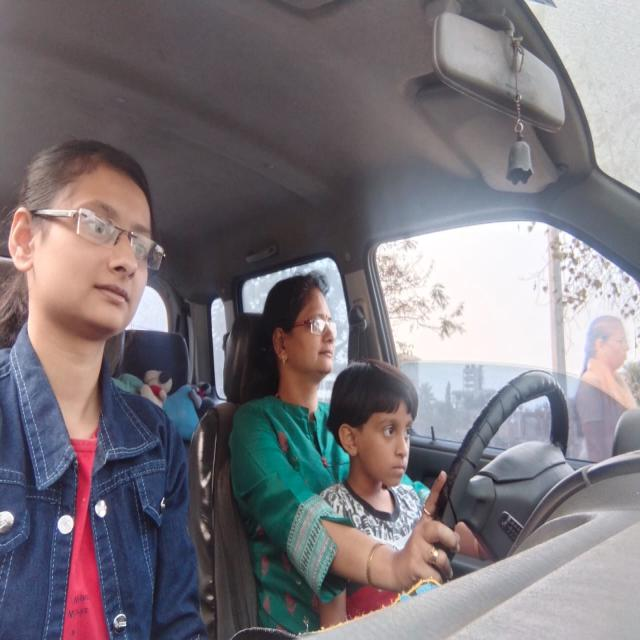child: (334, 367, 417, 489)
person: (9, 138, 162, 339), (265, 276, 338, 372)
